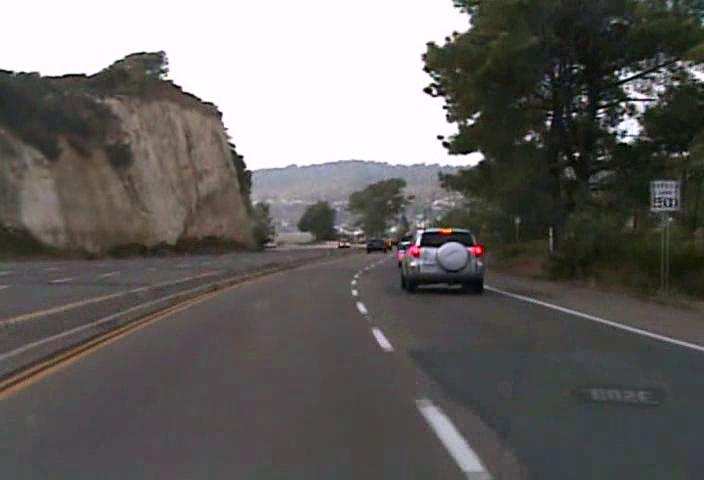speedLimit50: (649, 179, 679, 211)
